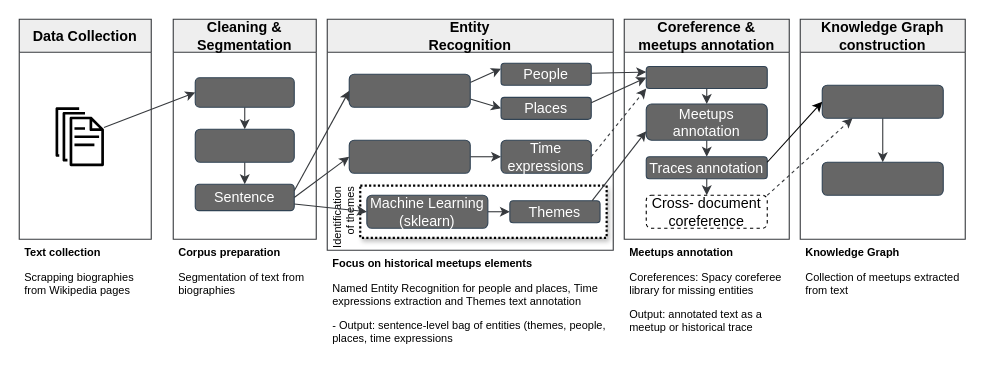
Image size: 985x369. Some labels were removed from this diagram. Each missing label, with the centre of its shape:
"Biography" belongs at pixel 79 136.
"Coreference task" belongs at pixel 706 77.
"DBpedia Spotlight" belongs at pixel 409 90.
"Knowledge graph" belongs at pixel 882 178.
"NLTK Rule-based tagger" belongs at pixel 409 156.
"Paragraph" belongs at pixel 244 145.
"Section" belongs at pixel 244 92.
"SPARQL Anything" belongs at pixel 882 101.
